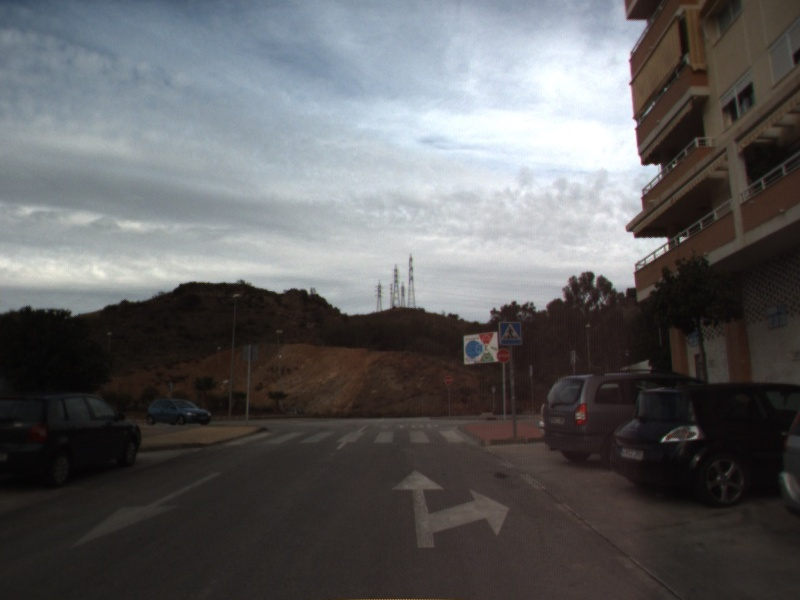STRAIGHT_RIGHT: (389, 467, 512, 550)
